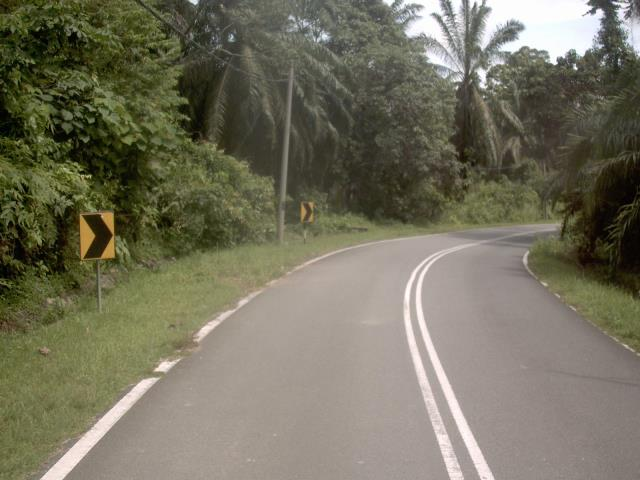traffic_sign: (70, 202, 125, 270)
